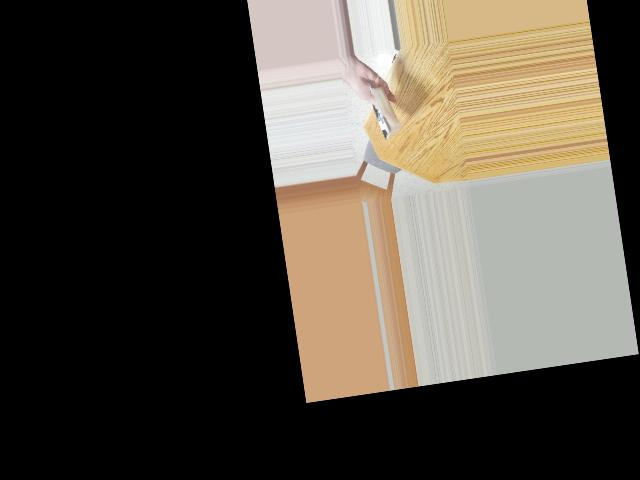cheese: (356, 83, 407, 140)
